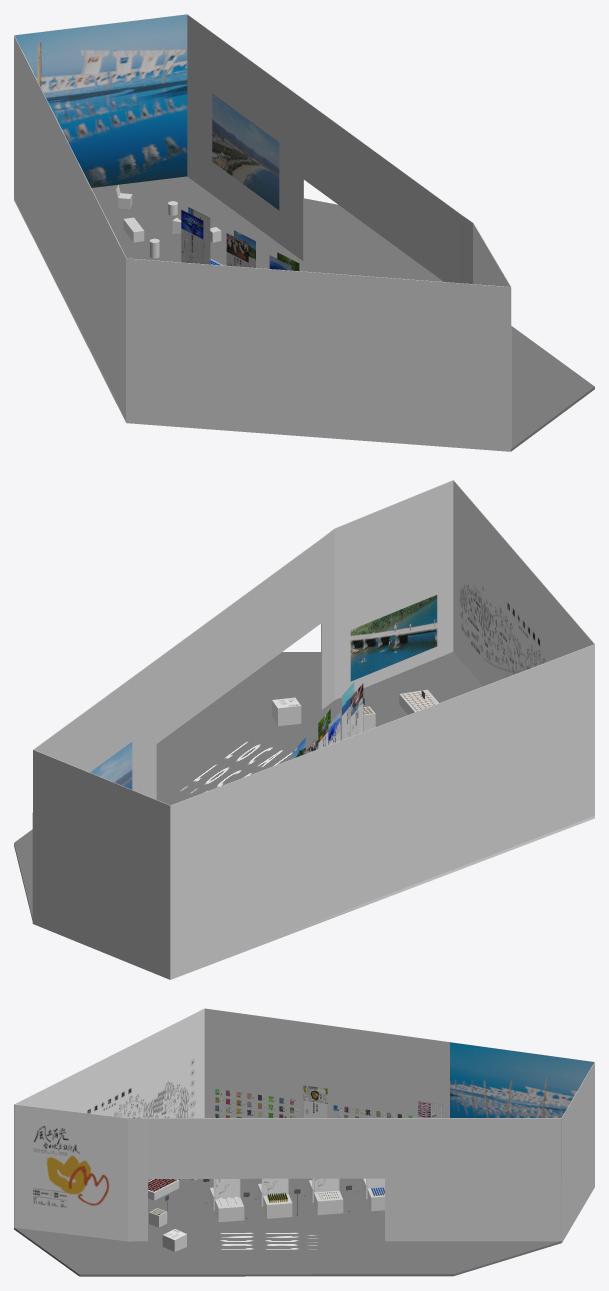
File: taiwan4-256.glb
3 views of the same model, one above another, from view 1: azimuth 30°, elevation 25°; view 2: azimuth 150°, elevation 25°; view 3: azimuth 270°, elevation 25° (orthographic). The views are drawn at different scales.
Visible parts, largest first — view 1: 立方体.002, Cube.010, 平面, Cube.012, ポスター10, 立方体.036, タペストリー6.007, タペストリー6.003; view 2: Cube.010, Cube.012, 平面.005, 平面.007, 平面.004, 立方体.002, ポスター10, Cube.013; view 3: Cube.010, Cube.012, 平面.006, 平面.005, 平面, 立方体.002, 平面.004, 平面.002, タペストリー2, タペストリー6.001, タペストリー6.006, タペストリー3.
Boxes of the visible parts, x1,y1,x2,y2 form: 立方体.002: [126, 258, 510, 451]; Cube.010: [14, 14, 511, 448]; 平面: [14, 14, 187, 187]; Cube.012: [91, 176, 594, 451]; ポスター10: [212, 93, 279, 210]; 立方体.036: [116, 184, 221, 258]; タペストリー6.007: [181, 210, 203, 263]; タペストリー6.003: [226, 233, 248, 267]; Cube.010: [32, 480, 594, 979]; Cube.012: [14, 652, 482, 920]; 平面.005: [453, 480, 593, 686]; 平面.007: [350, 595, 437, 681]; 平面.004: [176, 739, 293, 796]; 立方体.002: [272, 480, 594, 731]; ポスター10: [90, 742, 132, 789]; Cube.013: [170, 816, 594, 979]; Cube.010: [16, 1008, 594, 1242]; Cube.012: [14, 1178, 561, 1276]; 平面.006: [14, 1104, 127, 1241]; 平面.005: [14, 1009, 204, 1118]; 平面: [450, 1042, 594, 1117]; 立方体.002: [14, 1009, 384, 1251]; 平面.004: [217, 1232, 320, 1250]; 平面.002: [215, 1089, 416, 1117]; タペストリー2: [303, 1085, 327, 1117]; タペストリー6.001: [215, 1179, 240, 1199]; タペストリー6.006: [263, 1178, 288, 1195]; タペストリー3: [418, 1101, 442, 1117].
Size of the model in its own units: 15.66 by 6.4 by 26.87.
75 materials, 54 textured.
